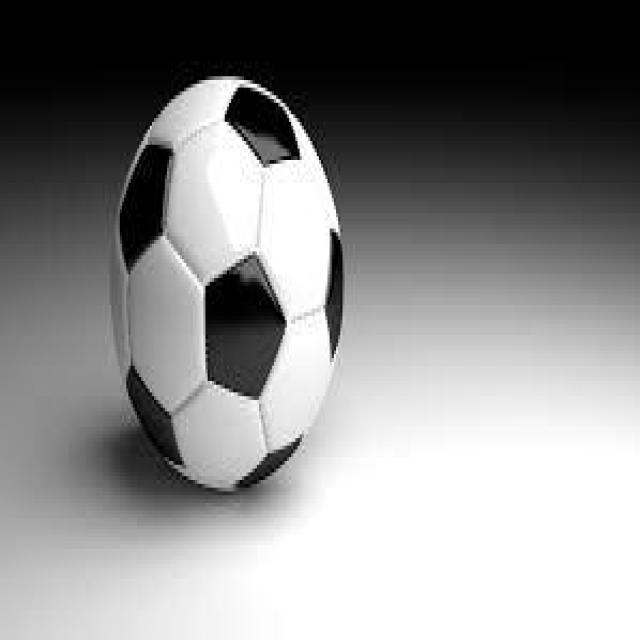ball: (110, 75, 340, 491)
